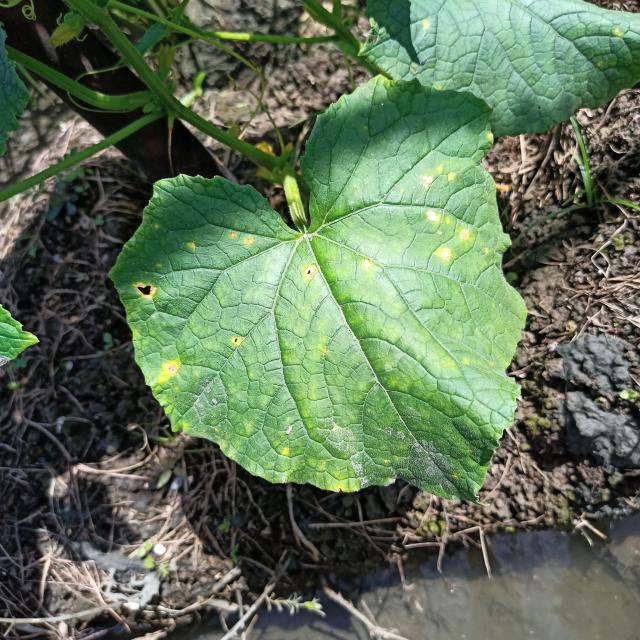disease_cucumber: (421, 162, 473, 266), (153, 359, 183, 386), (227, 230, 260, 249), (135, 281, 159, 301), (302, 264, 318, 280), (362, 257, 372, 270), (232, 336, 241, 346)
